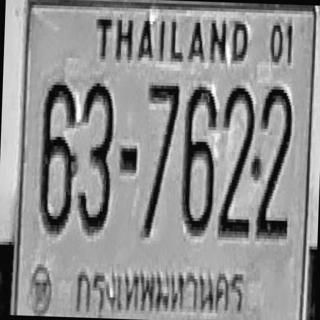N02: (255, 84, 292, 238), (218, 83, 255, 236)
N03: (77, 80, 114, 233)
N06: (38, 78, 78, 235), (180, 83, 217, 236)
N07: (142, 80, 180, 237)
